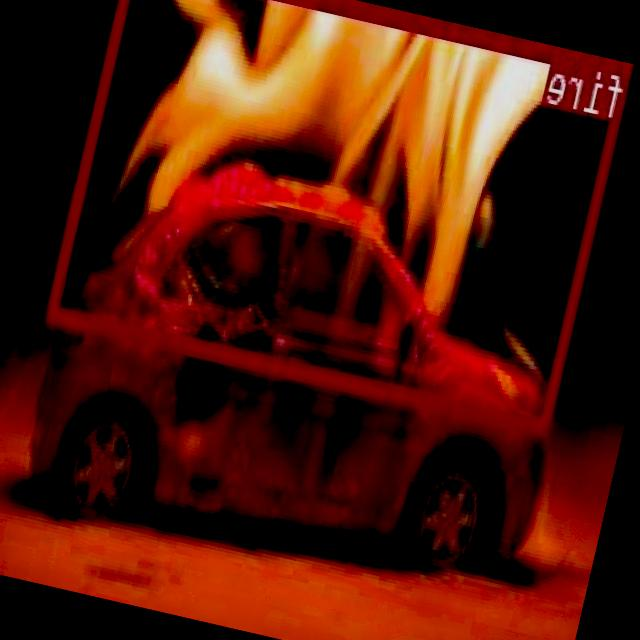fire: (47, 0, 634, 435)
